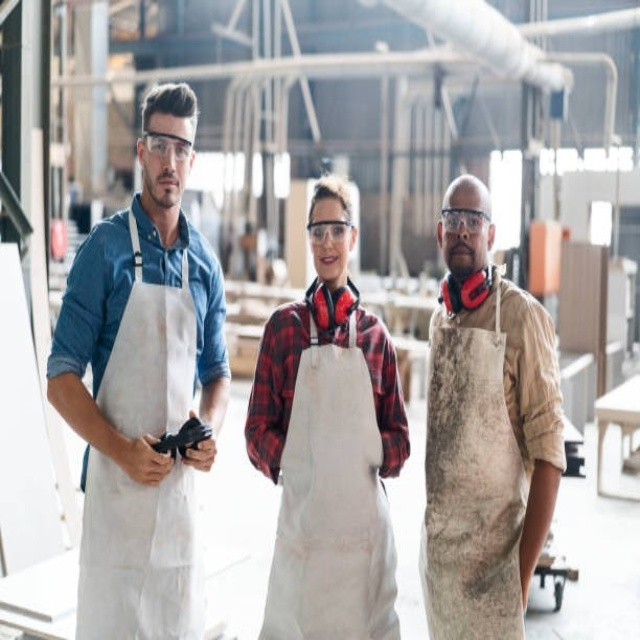Gafas: (143, 135, 195, 162), (439, 209, 491, 235), (307, 221, 354, 245)
Sin_guantes: (129, 430, 174, 488), (178, 410, 216, 473)
Sin_mascara: (448, 240, 475, 267), (156, 168, 180, 196), (317, 249, 339, 273)
